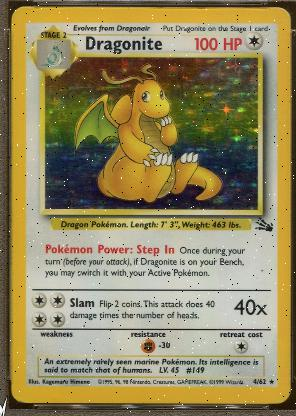Card: (8, 6, 292, 404)
Edge Wear: (115, 6, 207, 7)
Scratch: (83, 75, 132, 97), (211, 159, 258, 175), (177, 121, 222, 136), (206, 93, 223, 111), (46, 119, 62, 137), (187, 62, 209, 72), (237, 124, 253, 136)
